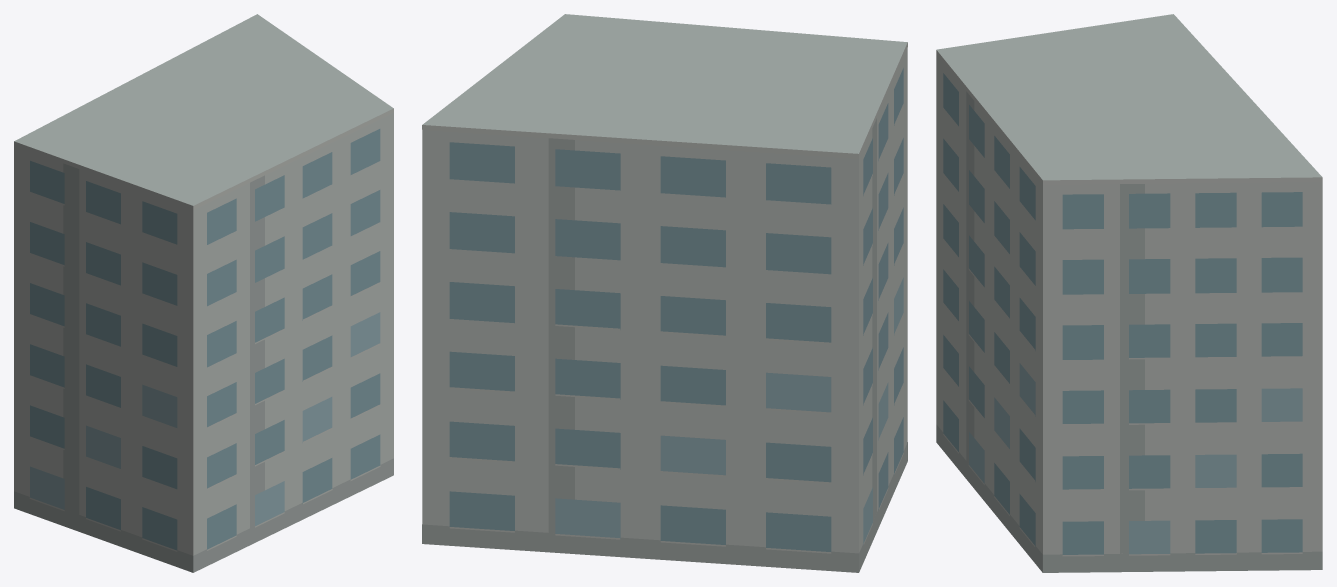
The model's file is survey-upis-32858970.glb.
3 views of the same model, side by side, from view 1: azimuth 30°, elevation 25°; view 2: azimuth 150°, elevation 25°; view 3: azimuth 270°, elevation 25° (orthographic). The views are drawn at different scales.
Visible parts, largest first — view 1: survey-upis-32858970.tmp; view 2: survey-upis-32858970.tmp; view 3: survey-upis-32858970.tmp.
Boxes of the visible parts, box(x1,y1,x2,y2) form: survey-upis-32858970.tmp: box(14, 14, 393, 572); survey-upis-32858970.tmp: box(422, 14, 907, 572); survey-upis-32858970.tmp: box(936, 14, 1322, 572).
Size of the model in its own units: 18.99 by 20.89 by 18.64.
